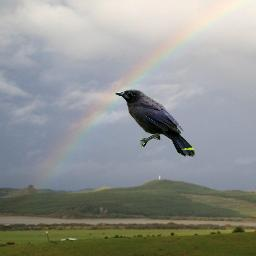Crow: (115, 89, 195, 157)
